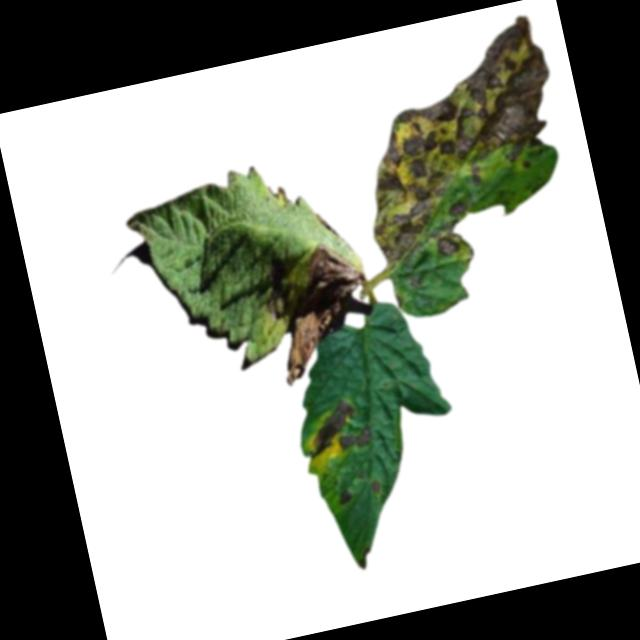Early_blight: (333, 10, 584, 274), (260, 234, 384, 388), (300, 397, 366, 459), (337, 425, 377, 453), (371, 479, 383, 495)
